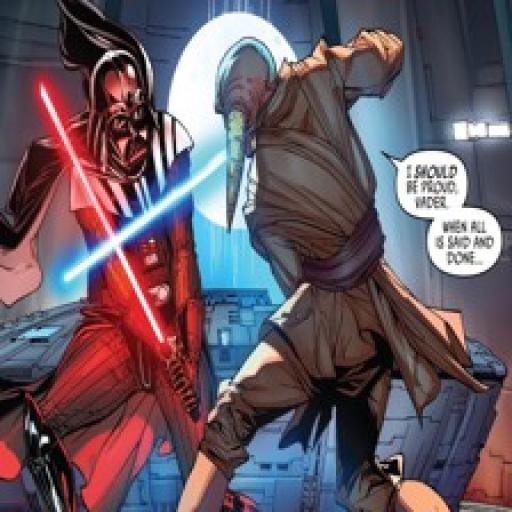human: (175, 23, 438, 512), (8, 51, 258, 512)
lightsaber: (63, 108, 271, 288)
sith saber: (37, 84, 201, 413)
